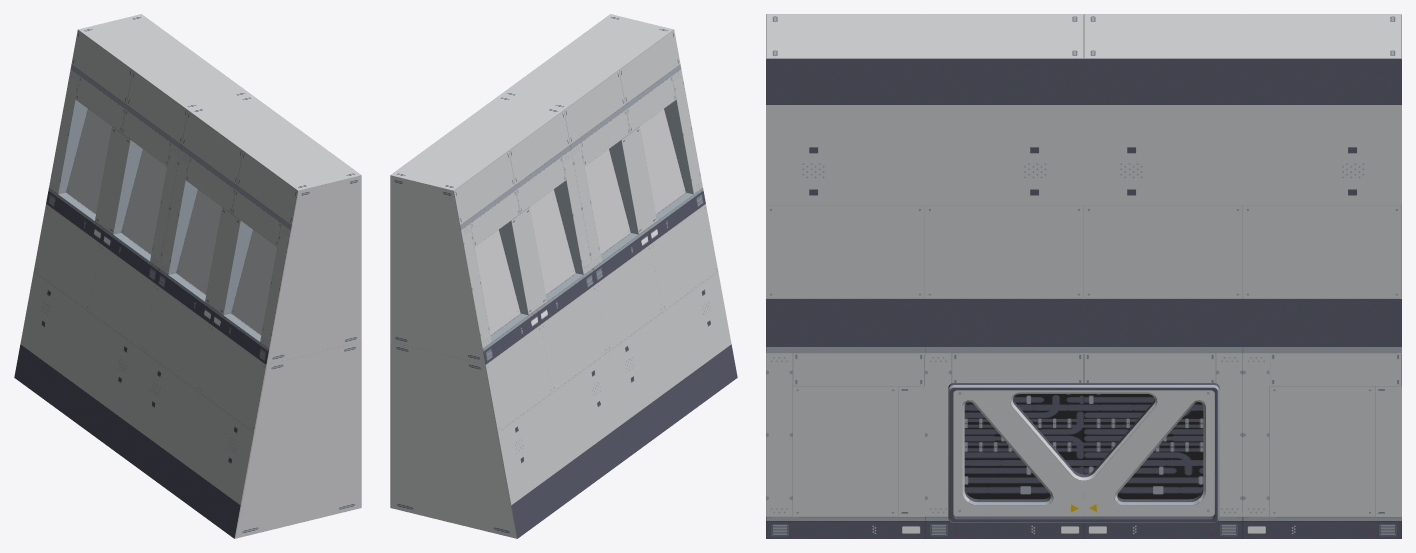
Rendered from Wall_Big_Simple_01.FBX.
3 views of the same model, side by side, from view 1: azimuth 30°, elevation 25°; view 2: azimuth 150°, elevation 25°; view 3: azimuth 270°, elevation 25° (orthographic). The views are drawn at different scales.
Parts seen in each view (by area): view 1: Wall_Big_Simple_01; view 2: Wall_Big_Simple_01; view 3: Wall_Big_Simple_01.
Part boxes in pixels (x1,y1,x2,y2): Wall_Big_Simple_01: (14, 14, 361, 538); Wall_Big_Simple_01: (390, 14, 737, 538); Wall_Big_Simple_01: (766, 14, 1401, 538).
Bounding box in the file's own units: 4.13 × 10 × 12.
Materials: 4 (4 with a texture image).
